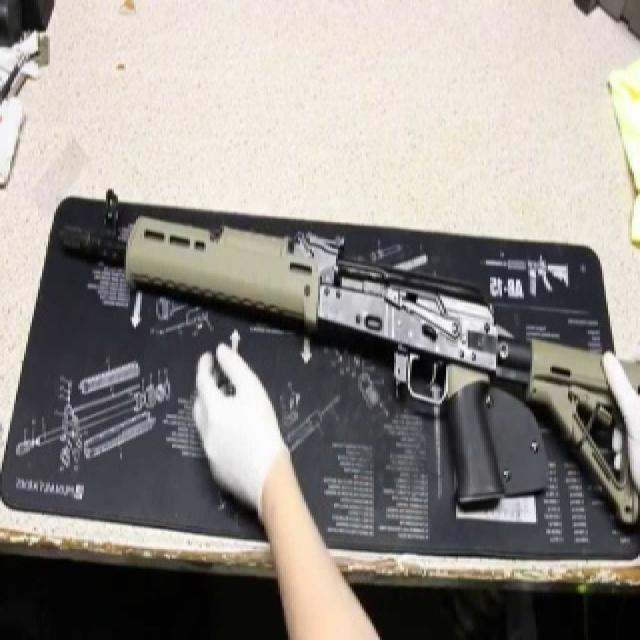rifle: (55, 185, 640, 532)
